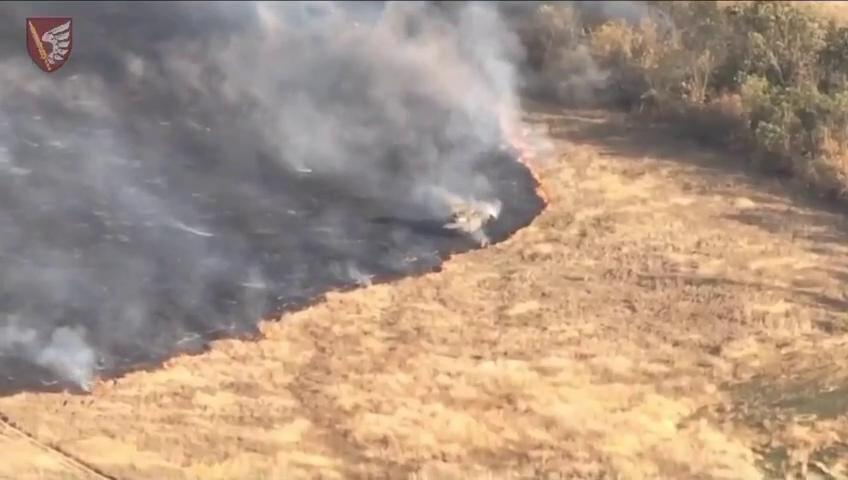tank: (441, 193, 505, 247)
